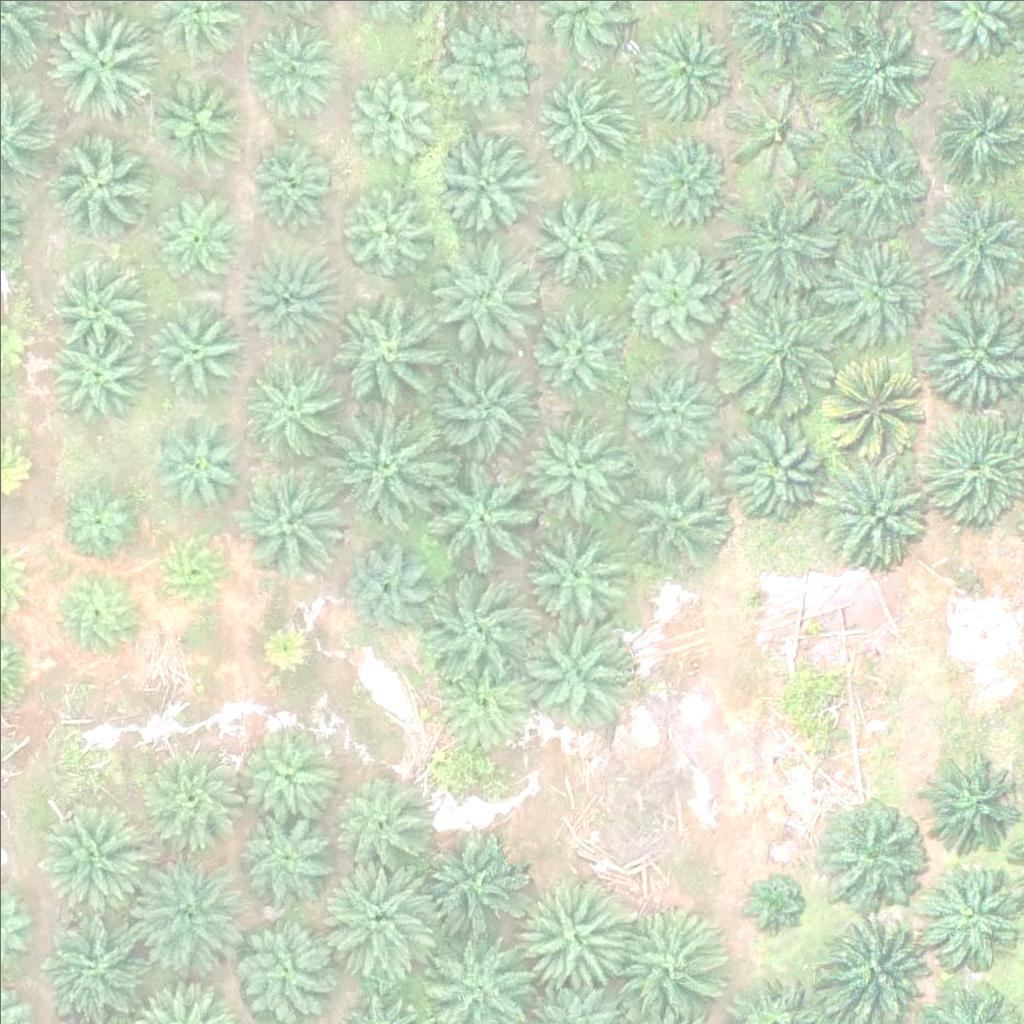Kelapa_Sawit: (42, 128, 155, 242), (49, 1, 162, 114), (427, 349, 540, 462), (725, 184, 838, 297), (721, 296, 834, 409), (413, 826, 526, 939), (519, 879, 632, 992), (622, 905, 735, 1018), (330, 402, 443, 515), (424, 453, 537, 566), (519, 610, 632, 723), (722, 408, 835, 521), (818, 909, 931, 1022), (429, 231, 541, 345), (43, 901, 155, 1015), (39, 797, 151, 911), (137, 740, 249, 854), (911, 858, 1023, 972), (335, 293, 447, 406), (822, 16, 934, 129), (129, 852, 241, 965), (322, 867, 434, 980), (234, 466, 346, 579), (419, 570, 531, 683), (517, 420, 629, 533), (623, 457, 735, 570), (820, 451, 932, 564), (817, 793, 929, 906), (46, 325, 146, 426), (152, 412, 252, 513), (145, 296, 245, 397), (145, 72, 245, 173), (239, 356, 339, 457), (242, 23, 342, 124), (334, 183, 434, 284), (434, 128, 534, 229), (529, 186, 629, 287), (537, 66, 637, 167), (631, 131, 731, 232), (634, 15, 734, 116), (833, 242, 933, 343), (831, 130, 931, 231), (235, 917, 335, 1018), (233, 808, 333, 909), (338, 769, 438, 870), (432, 652, 532, 753), (524, 518, 624, 619), (243, 242, 343, 342), (438, 17, 538, 117), (628, 237, 728, 337), (722, 81, 822, 181), (827, 349, 927, 449), (233, 723, 333, 823), (922, 753, 1022, 853), (154, 186, 242, 275), (49, 258, 137, 346), (249, 143, 337, 231), (50, 570, 138, 658), (50, 478, 138, 566), (337, 545, 425, 633), (349, 75, 436, 163), (530, 304, 617, 392), (628, 359, 715, 447), (150, 528, 237, 616), (736, 868, 811, 943), (257, 612, 320, 675)
